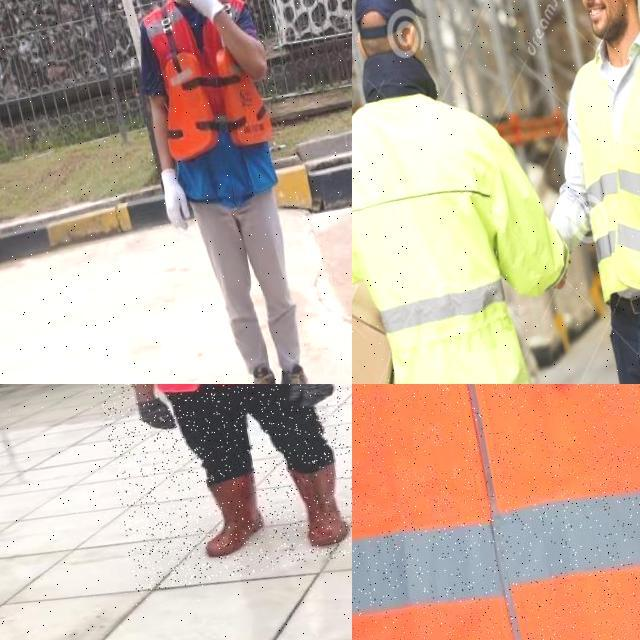boots: (196, 469, 271, 558), (289, 460, 352, 550), (278, 361, 326, 384), (239, 362, 287, 384)
vest: (352, 384, 640, 640), (136, 0, 287, 212), (550, 20, 640, 321)
